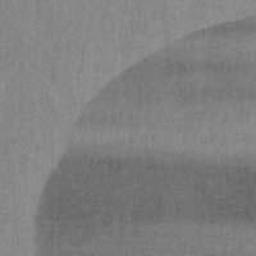Oil spot: (32, 13, 256, 256)
